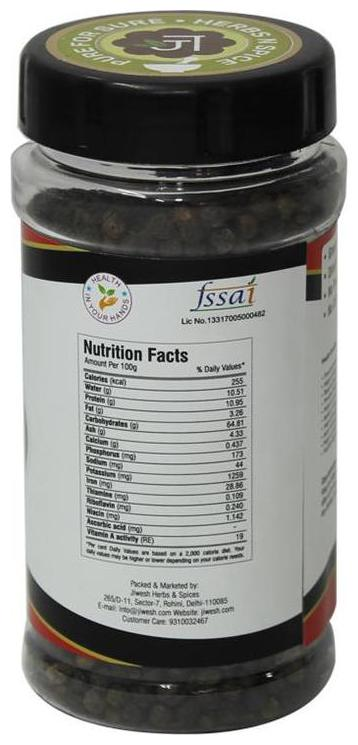fssai: (190, 274, 262, 313)
